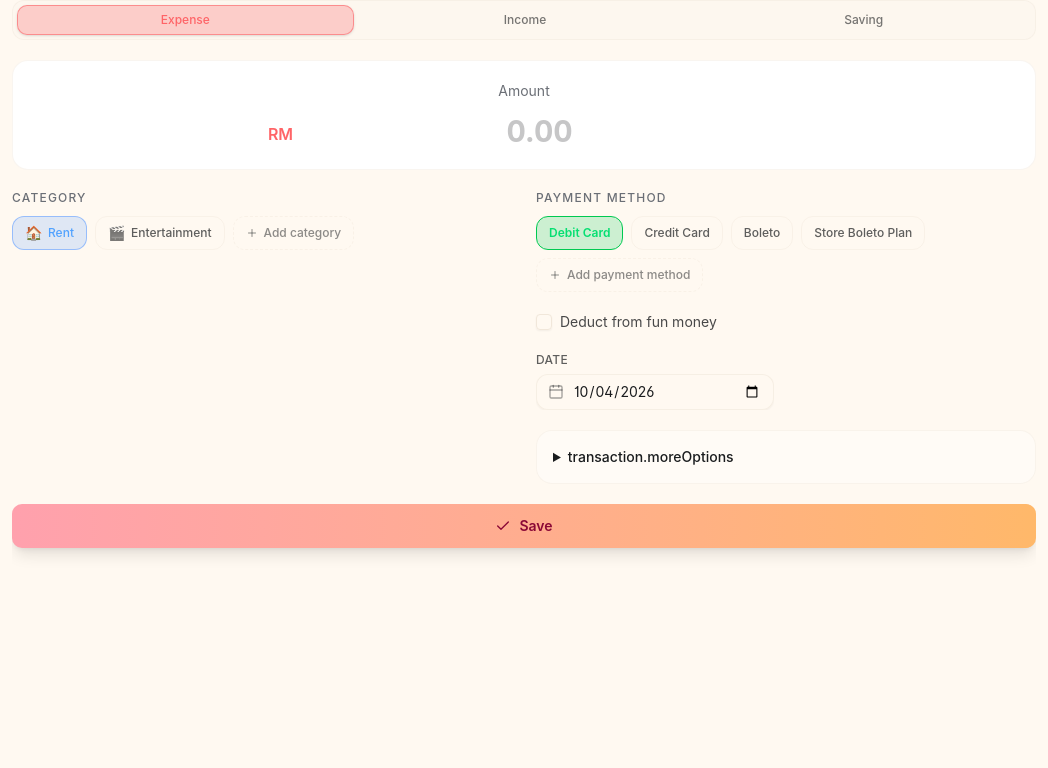
Test case: installment eligibility across payment method types › hides the installment select outside of expense type even with a credit payment method
What coordinates should you click on to do the following:
click the button "Credit Card"
I would click on:
 (677, 233)
Its box is [631, 216, 723, 250].
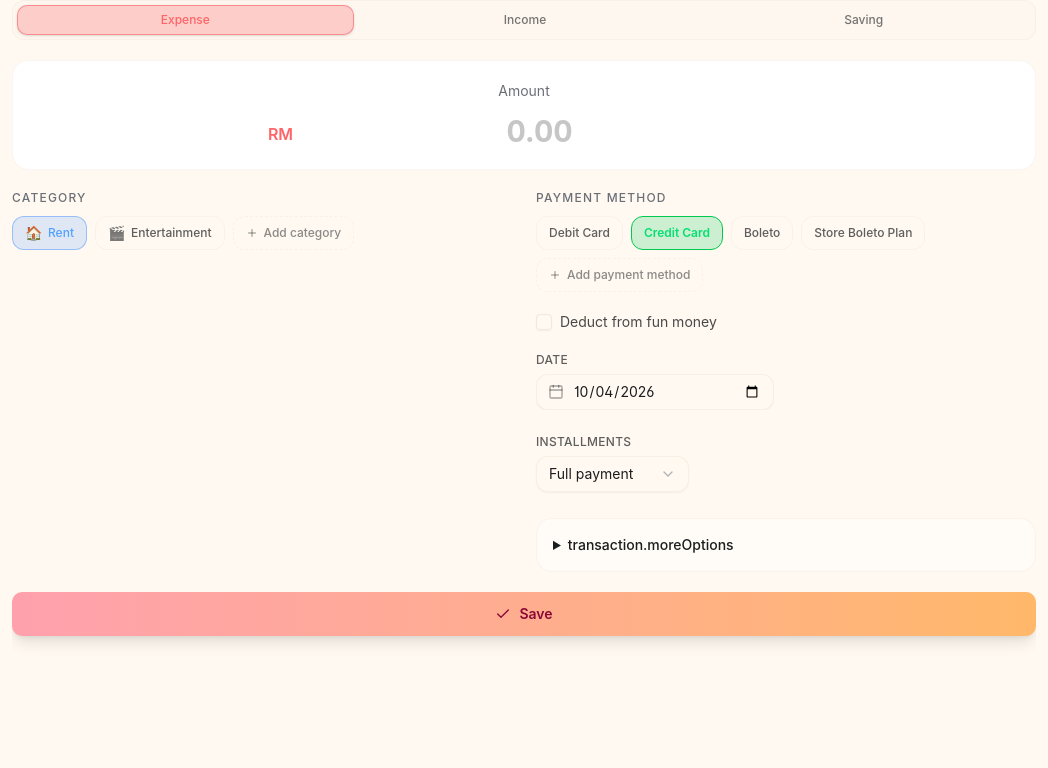
Check: the dropdown named "Installments" is shown, box [536, 456, 689, 492]
What coordinates should you click on to do the following:
click the button "Saving"
I would click on:
 (864, 20)
Its box is [696, 5, 1031, 35].
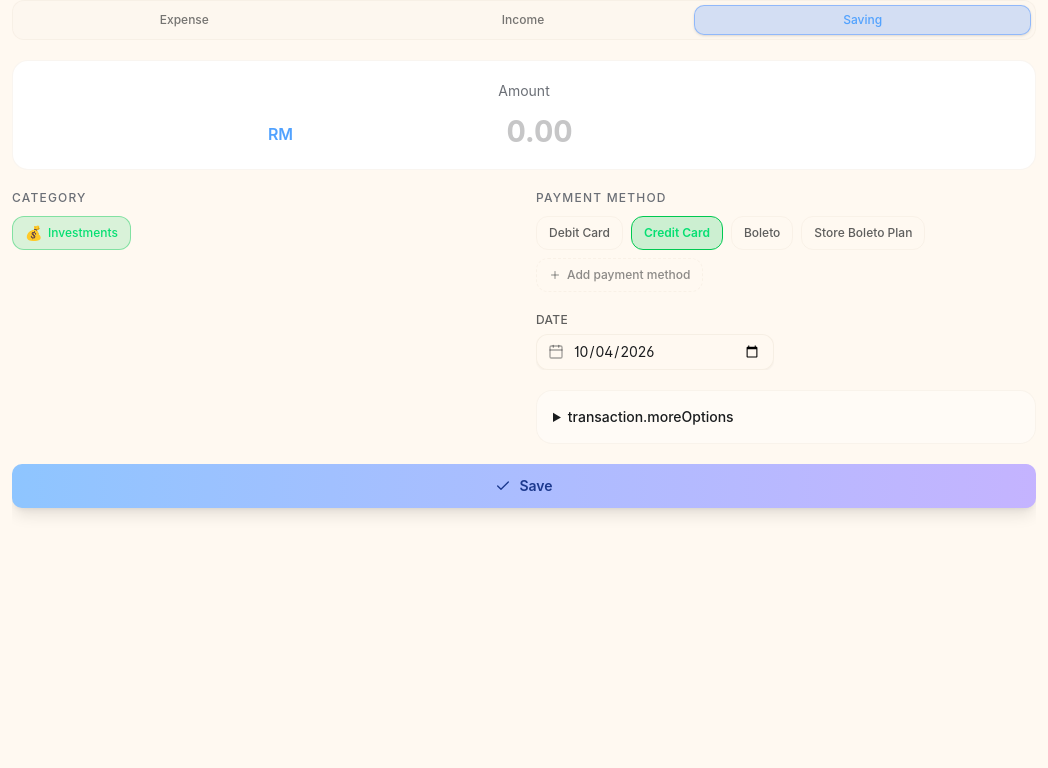
Check: the dropdown is gone
